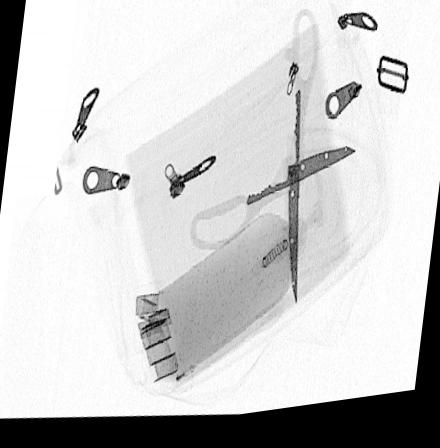Scissors: (188, 18, 356, 317)
